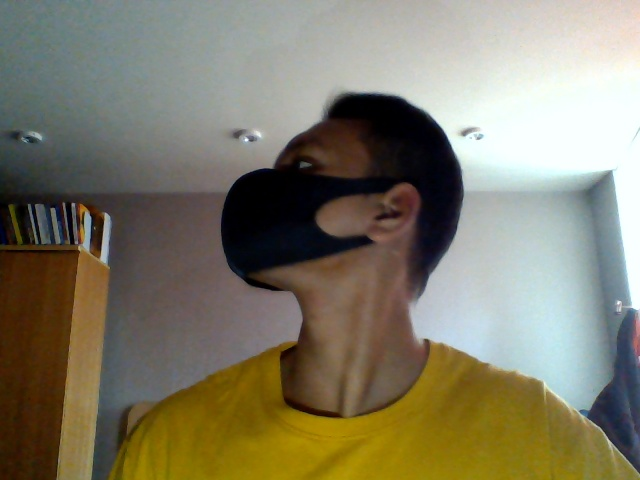mask: (218, 165, 360, 290)
